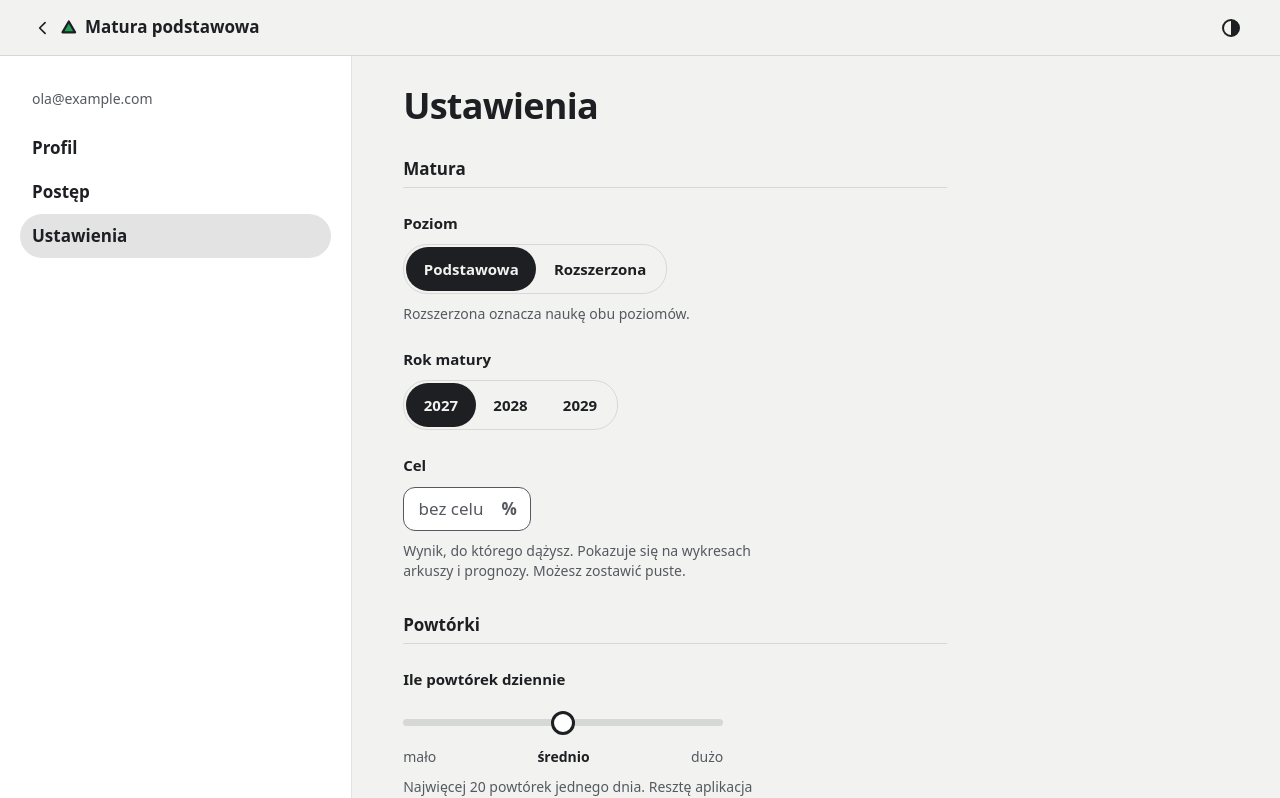
Test: settings › saves the level as soon as it changes
Click the radio button labelled "Rozszerzona" at coordinates (600, 269), box [554, 259, 646, 279]
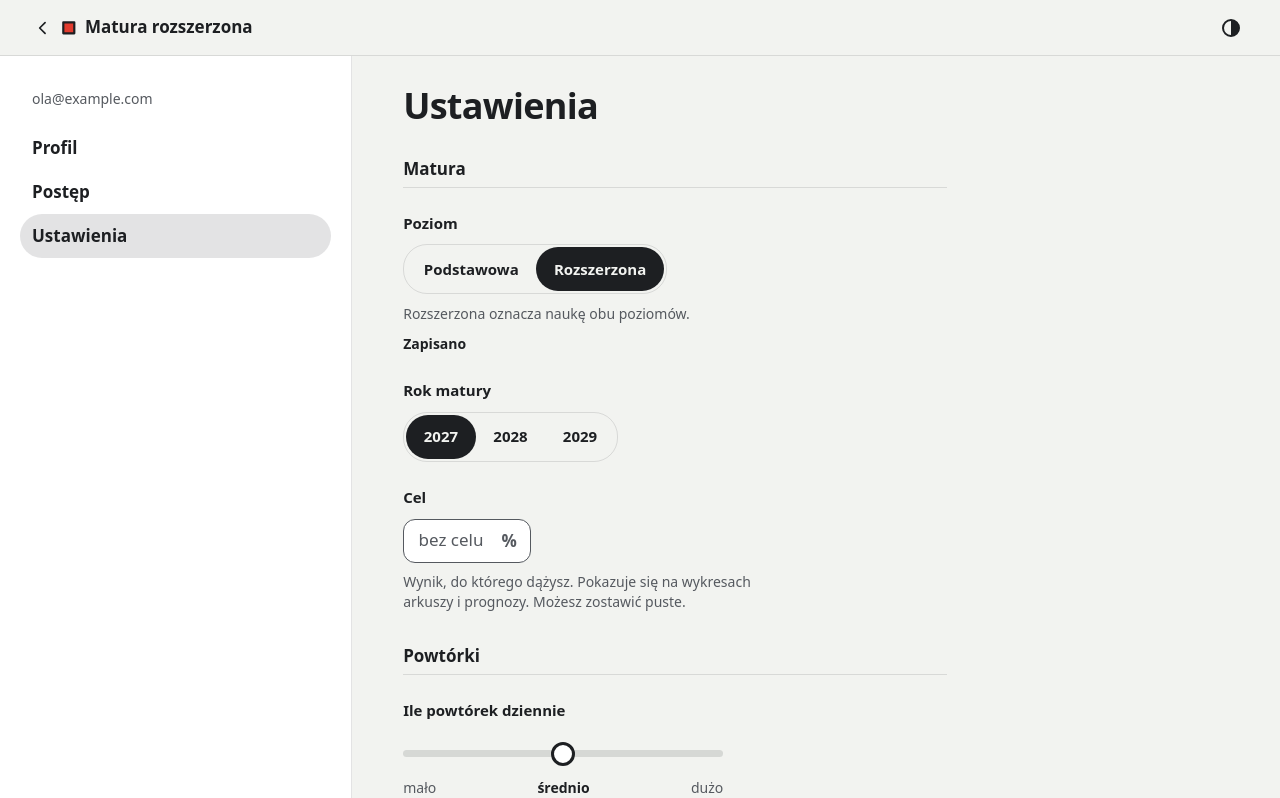
Now the text "Zapisano" is shown, box [403, 333, 466, 355]
